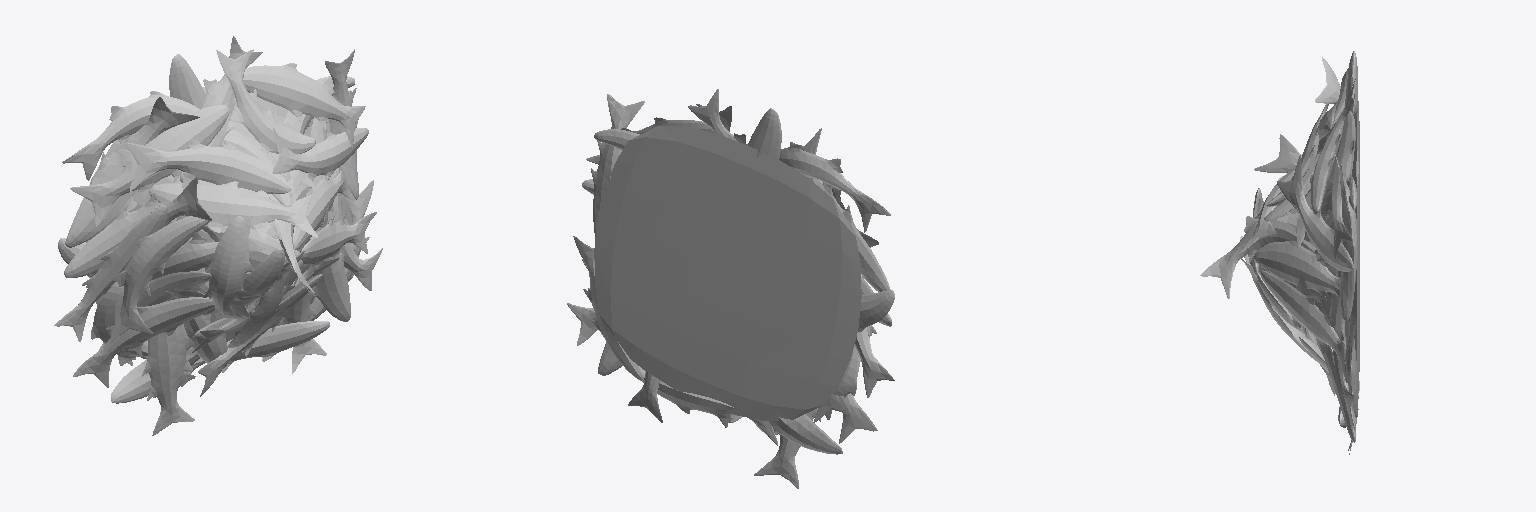
Rendered from fishpile.obj.
The picture shows the model from 3 angles: view 1: azimuth 30°, elevation 25°; view 2: azimuth 150°, elevation 25°; view 3: azimuth 270°, elevation 25°; orthographic projection.
Visible parts, largest first — view 1: model_1; view 2: model_1; view 3: model_1.
Boxes of the visible parts, box(x1,y1,x2,y2) form: model_1: box(54, 36, 382, 435); model_1: box(567, 89, 894, 488); model_1: box(1200, 51, 1359, 454).
Bounding box in the file's own units: 35.62 × 39.5 × 15.05.